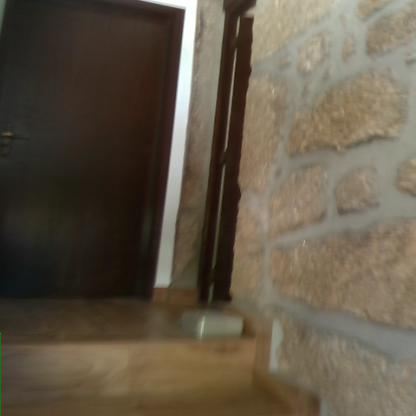closed: (0, 0, 195, 306)
